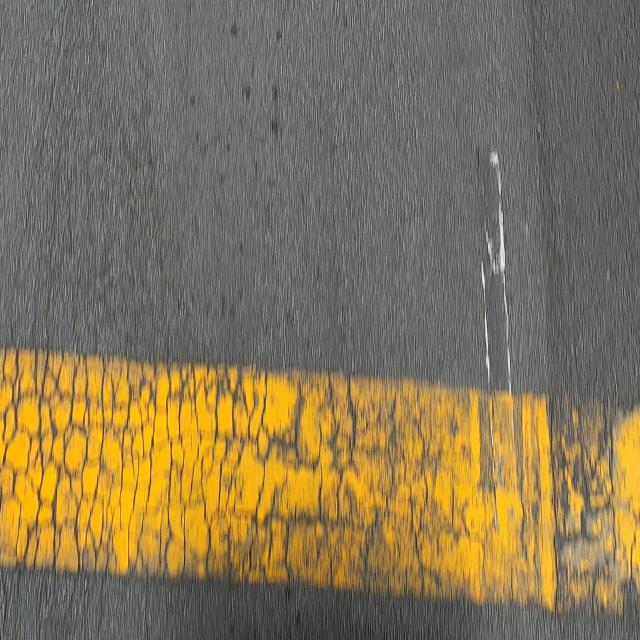Retak-Buaya: (0, 346, 456, 592), (549, 392, 622, 619)
